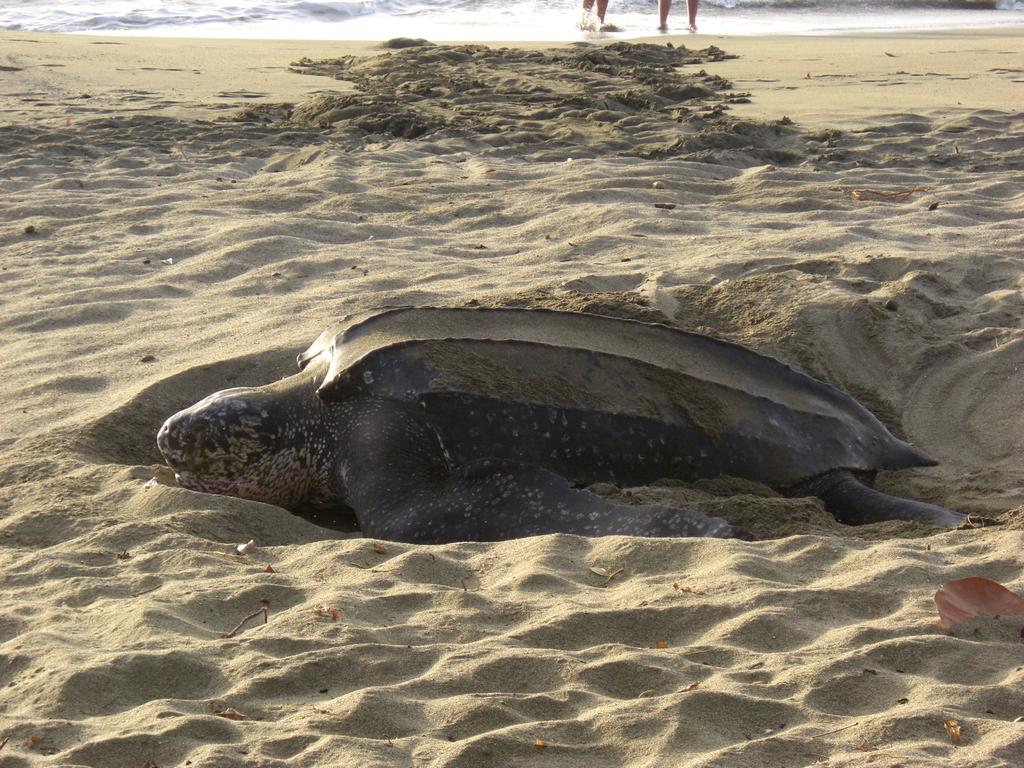Sea turtles: (151, 303, 977, 542)
